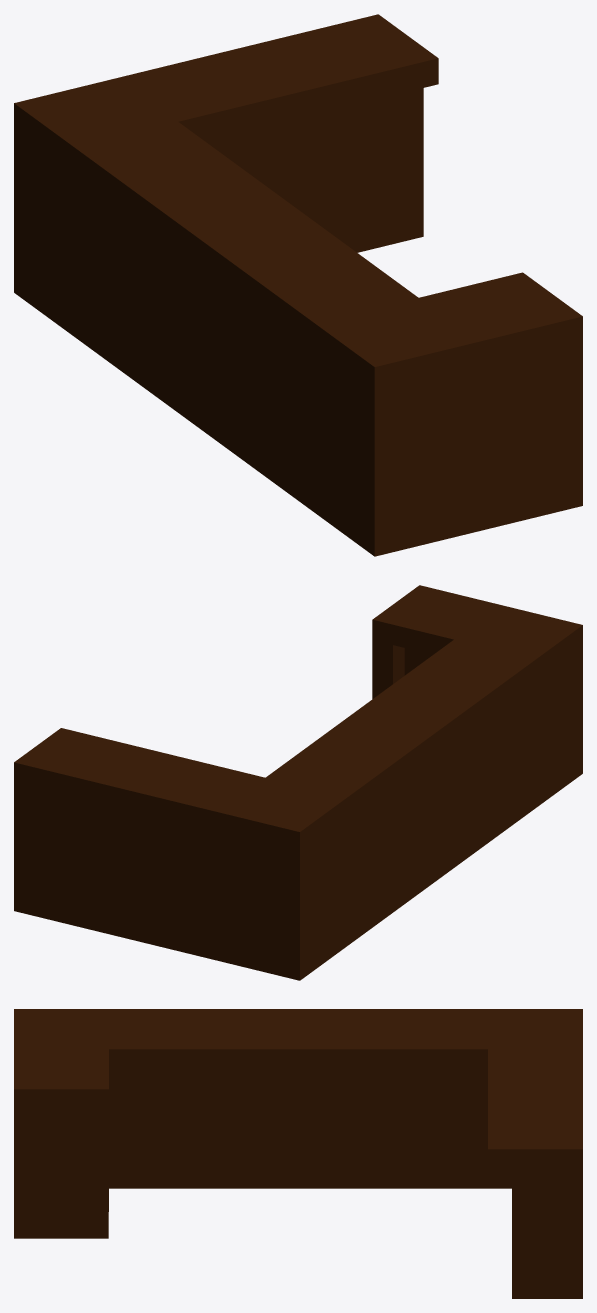
Rendered from Library_Count.fbx.
The picture shows the model from 3 angles, top to bottom: view 1: azimuth 30°, elevation 25°; view 2: azimuth 150°, elevation 25°; view 3: azimuth 270°, elevation 25°; orthographic projection. The views are drawn at different scales.
Visible parts, largest first — view 1: Cube, Cube.004, Cube.007, Cube.005, Cube.008, Cube.006, Cube.003, Cube.001, Cube.002; view 2: Cube, Cube.005, Cube.004, Cube.006, Cube.003, Cube.007, Cube.002, Cube.001; view 3: Cube.004, Cube, Cube.009, Cube.002, Cube.001, Cube.003.
Part boxes in pixels (bbox=[...]): Cube: bbox=[14, 14, 582, 366]; Cube.004: bbox=[74, 173, 314, 512]; Cube.007: bbox=[314, 349, 478, 556]; Cube.005: bbox=[205, 88, 423, 252]; Cube.008: bbox=[479, 342, 582, 531]; Cube.006: bbox=[14, 129, 73, 336]; Cube.003: bbox=[14, 58, 438, 172]; Cube.001: bbox=[314, 316, 582, 392]; Cube.002: bbox=[74, 147, 314, 348]; Cube: bbox=[14, 585, 582, 831]; Cube.005: bbox=[14, 783, 218, 960]; Cube.004: bbox=[347, 680, 535, 945]; Cube.006: bbox=[218, 818, 346, 980]; Cube.003: bbox=[14, 762, 346, 852]; Cube.007: bbox=[535, 645, 582, 807]; Cube.002: bbox=[347, 660, 535, 817]; Cube.001: bbox=[372, 619, 582, 679]; Cube.004: bbox=[109, 1069, 511, 1188]; Cube: bbox=[14, 1009, 582, 1298]; Cube.009: bbox=[14, 1109, 108, 1238]; Cube.002: bbox=[109, 1049, 487, 1069]; Cube.001: bbox=[14, 1089, 108, 1109]; Cube.003: bbox=[488, 1149, 582, 1169].
Bounding box in the file's own units: 700 × 348 × 1200.
